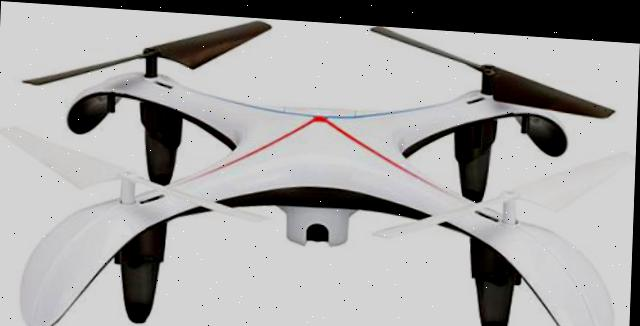drone: (0, 1, 640, 326)
